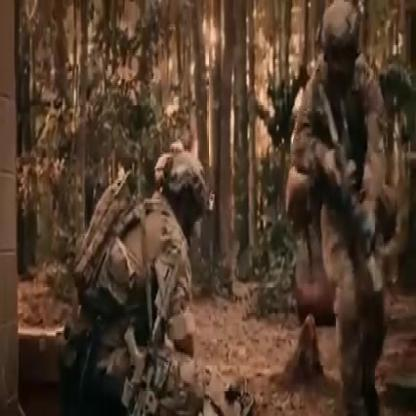Gun: (304, 59, 402, 315), (112, 213, 199, 406)
